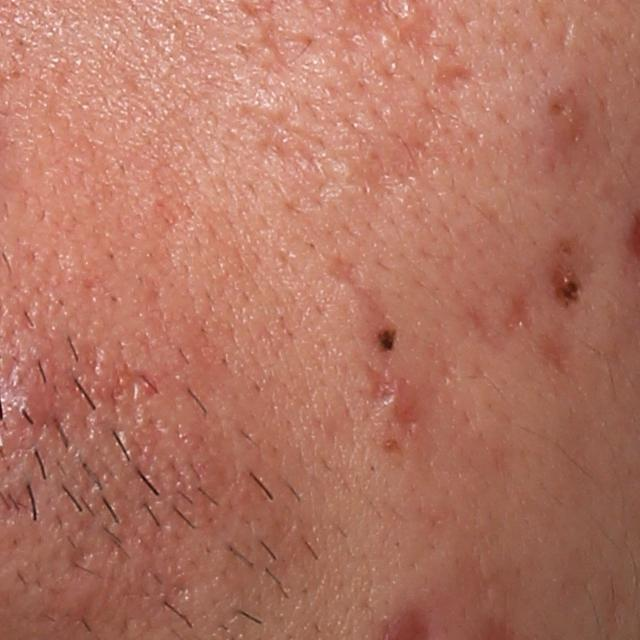atrophic_scar: (235, 104, 336, 178), (349, 119, 448, 192), (320, 246, 383, 315), (428, 61, 475, 93), (500, 292, 533, 333), (367, 369, 393, 408)
nevus: (370, 322, 401, 355), (554, 275, 585, 306)
